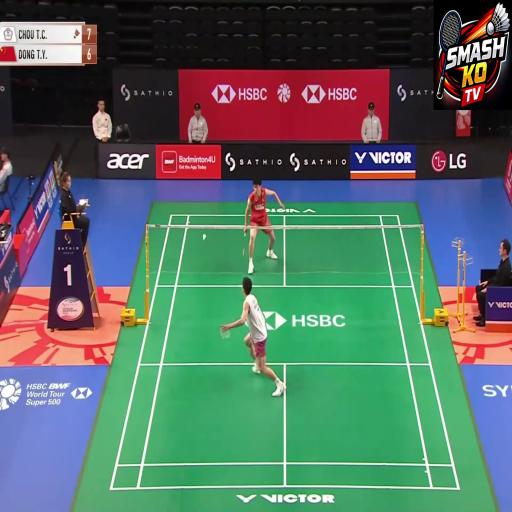player: (209, 265, 298, 440), (225, 148, 283, 275)
